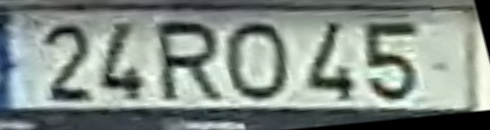2: (37, 21, 98, 104)
4: (302, 21, 362, 104), (95, 21, 154, 103)
5: (357, 20, 423, 103)
O: (223, 19, 292, 104)
R: (155, 20, 228, 102)
